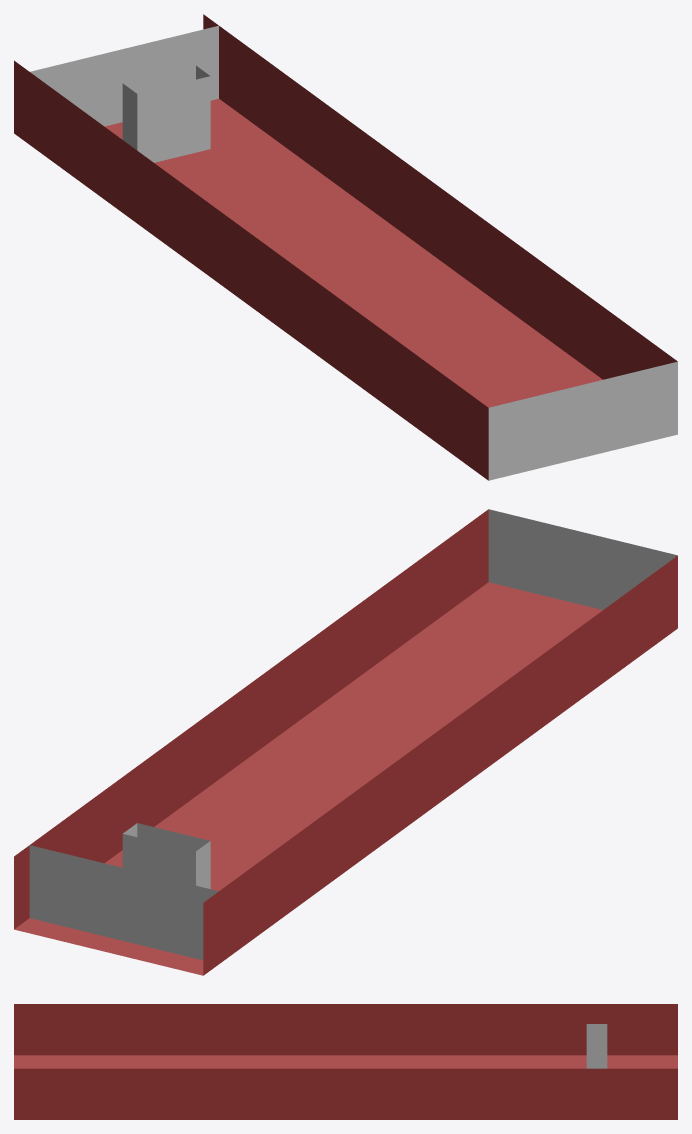
Rendered from workshop_collider.obj.
3 views of the same model, one above another, from view 1: azimuth 30°, elevation 25°; view 2: azimuth 150°, elevation 25°; view 3: azimuth 270°, elevation 25° (orthographic). The views are drawn at different scales.
Parts seen in each view (by area): view 1: level_Plane; view 2: level_Plane; view 3: level_Plane.
Part boxes in pixels (box(x1,y1,x2,y2)): level_Plane: box(14, 14, 677, 480); level_Plane: box(14, 509, 677, 975); level_Plane: box(14, 1004, 677, 1119).
Size of the model in its own units: 18.74 by 6.91 by 81.34.
